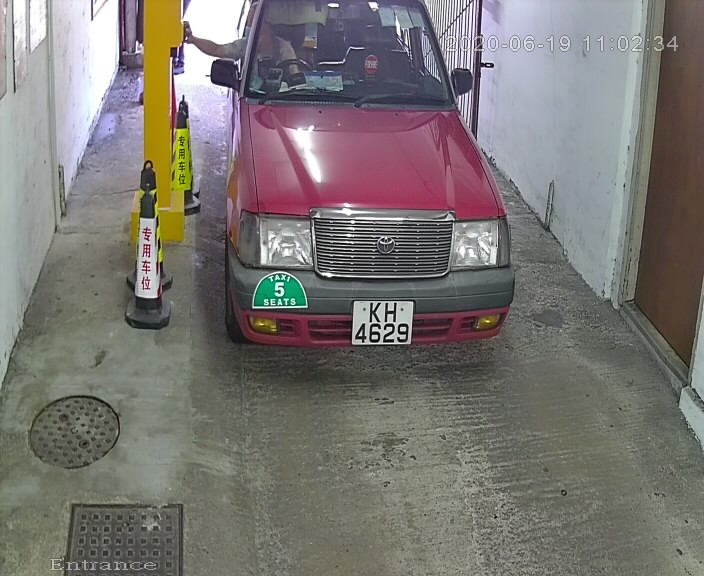taxi: (193, 2, 534, 390)
taxi_mark: (247, 269, 313, 317)
